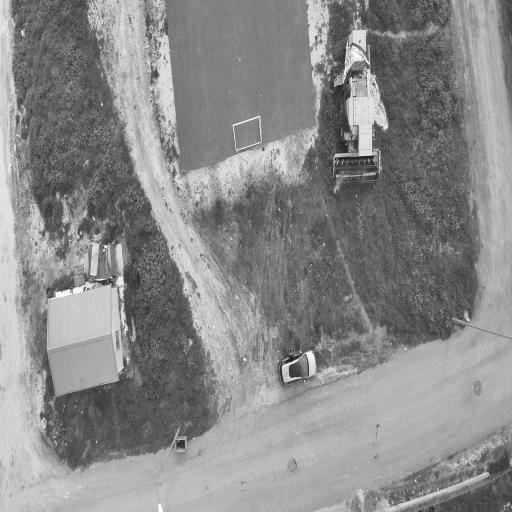car: (278, 350, 316, 386)
harvester: (333, 29, 379, 183)
